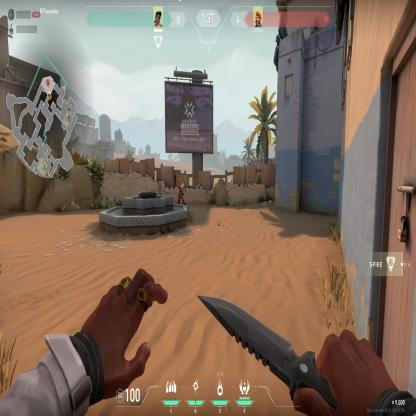enemy: (177, 177, 186, 206)
